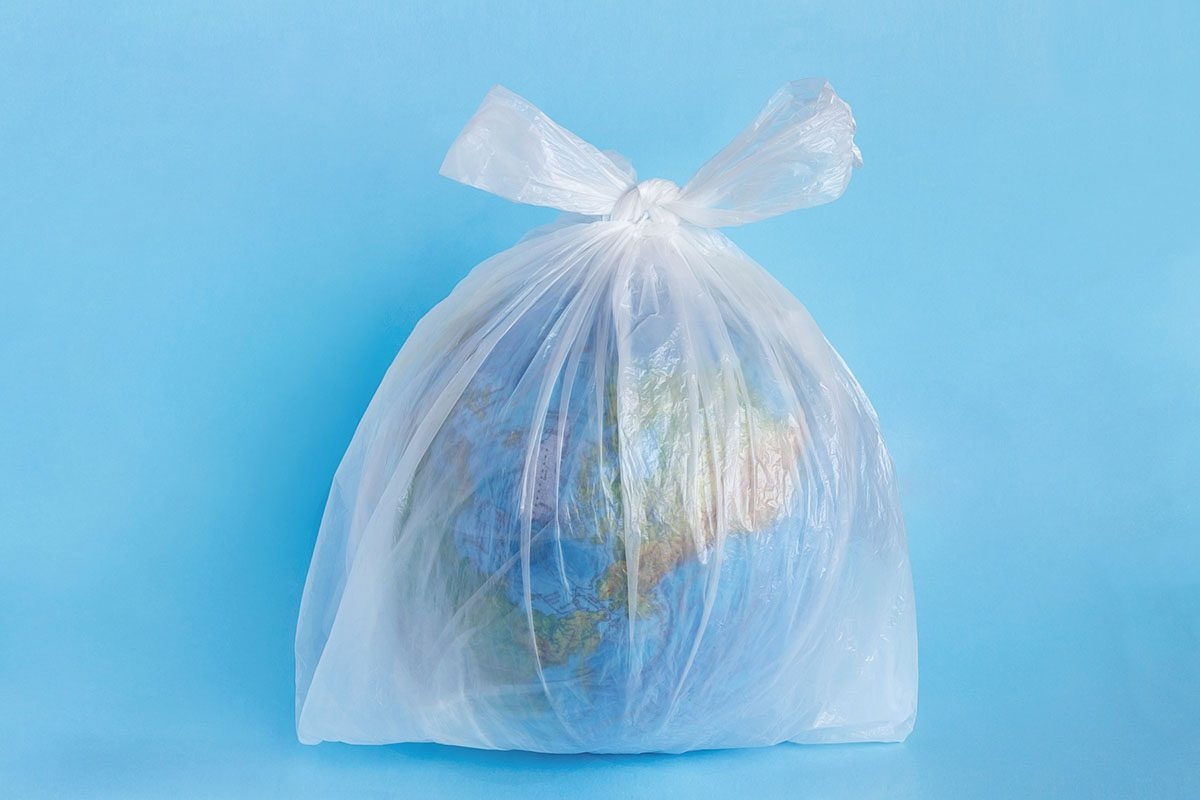plastic_bagwdw: (202, 71, 975, 774)
